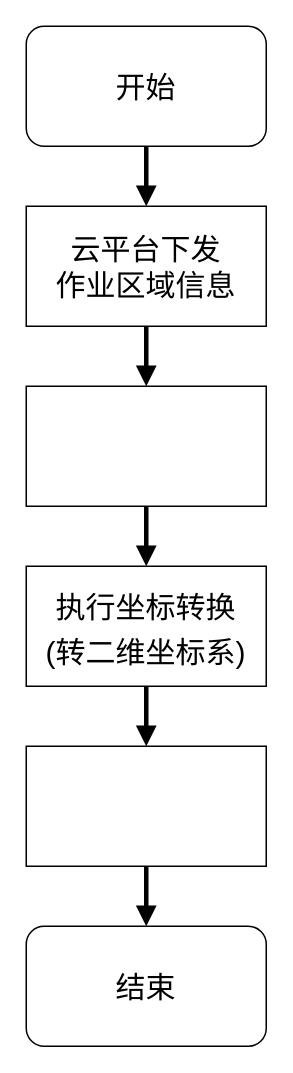
Image size: 293x1073. Some labels were removed from this diagram. Each missing label, with the box of its shape:
农机前往 作业区域: (25, 385, 266, 506)
路径规划: (25, 745, 266, 866)
